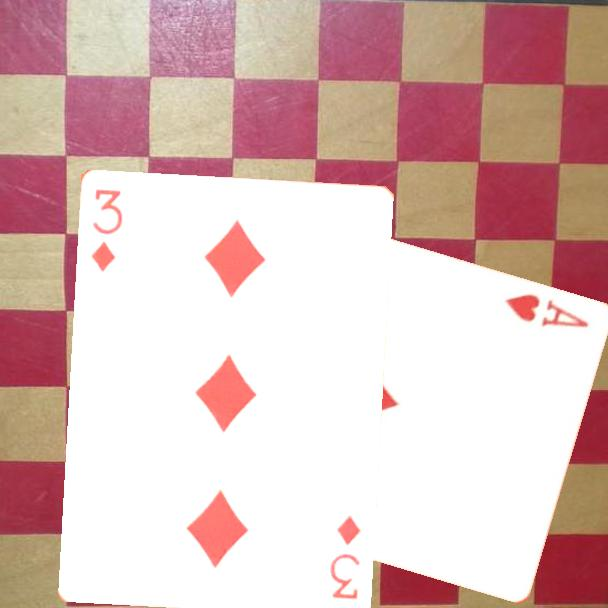d03: (87, 185, 125, 274), (326, 511, 363, 601)
h01: (502, 290, 593, 330)
